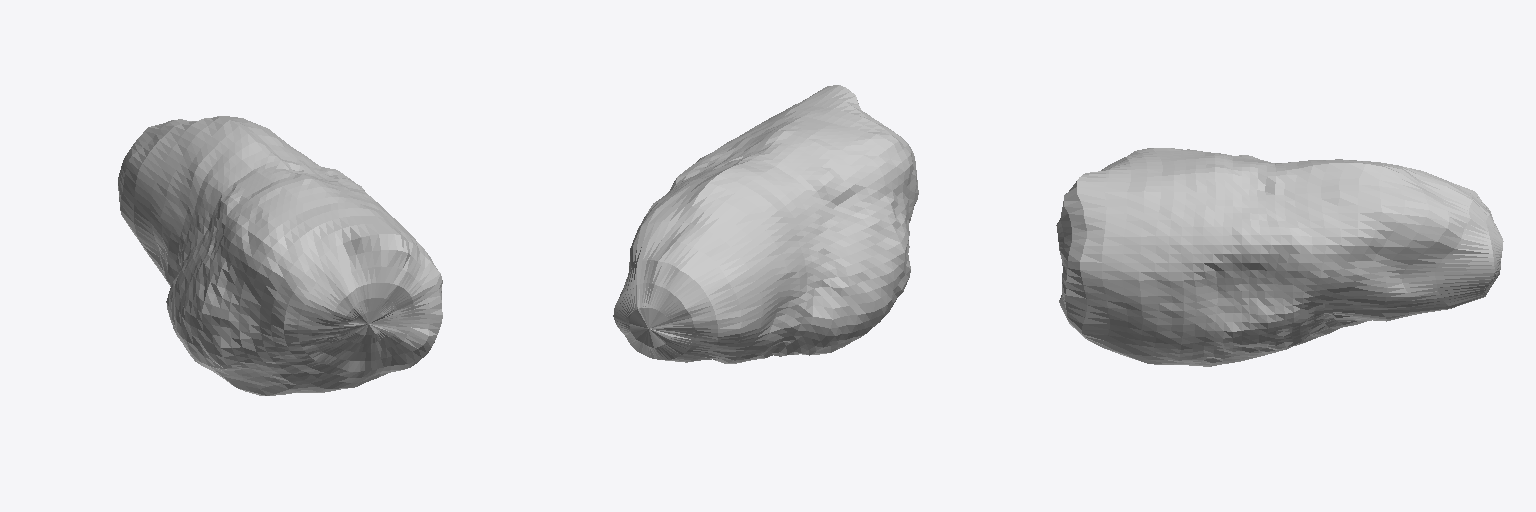
Rendered from halley_scaled_0-dot-0005.obj.
3 views of the same model, side by side, from view 1: azimuth 30°, elevation 25°; view 2: azimuth 150°, elevation 25°; view 3: azimuth 270°, elevation 25° (orthographic).
Bounding box in the file's own units: 0.0038 × 0.0038 × 0.0076.